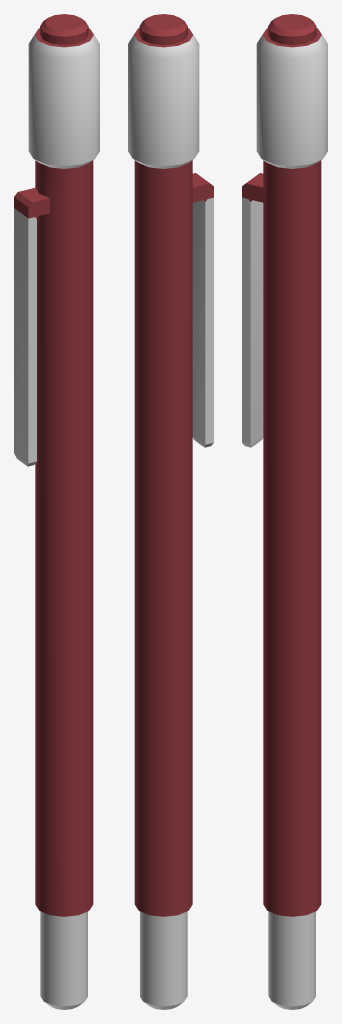
File: MagnetPen.fbx
3 renders of one model, left to right at view 1: azimuth 30°, elevation 25°; view 2: azimuth 210°, elevation 25°; view 3: azimuth 330°, elevation 25°, orthographic.
Parts seen in each view (by area): view 1: Cylinder; view 2: Cylinder; view 3: Cylinder.
Boxes of the visible parts, x1,y1,x2,y2 form: Cylinder: (14,14,99,1009); Cylinder: (128,14,213,1009); Cylinder: (242,14,327,1009).
Bounding box in the file's own units: 20.69 × 262 × 17.27.
